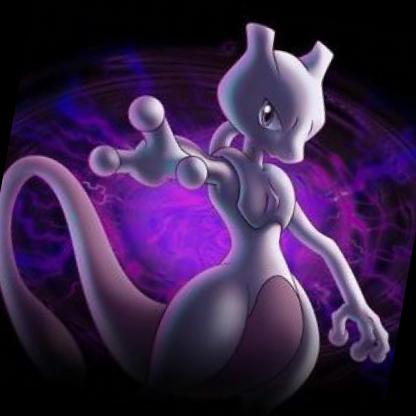Mewtwo: (1, 7, 416, 416)
